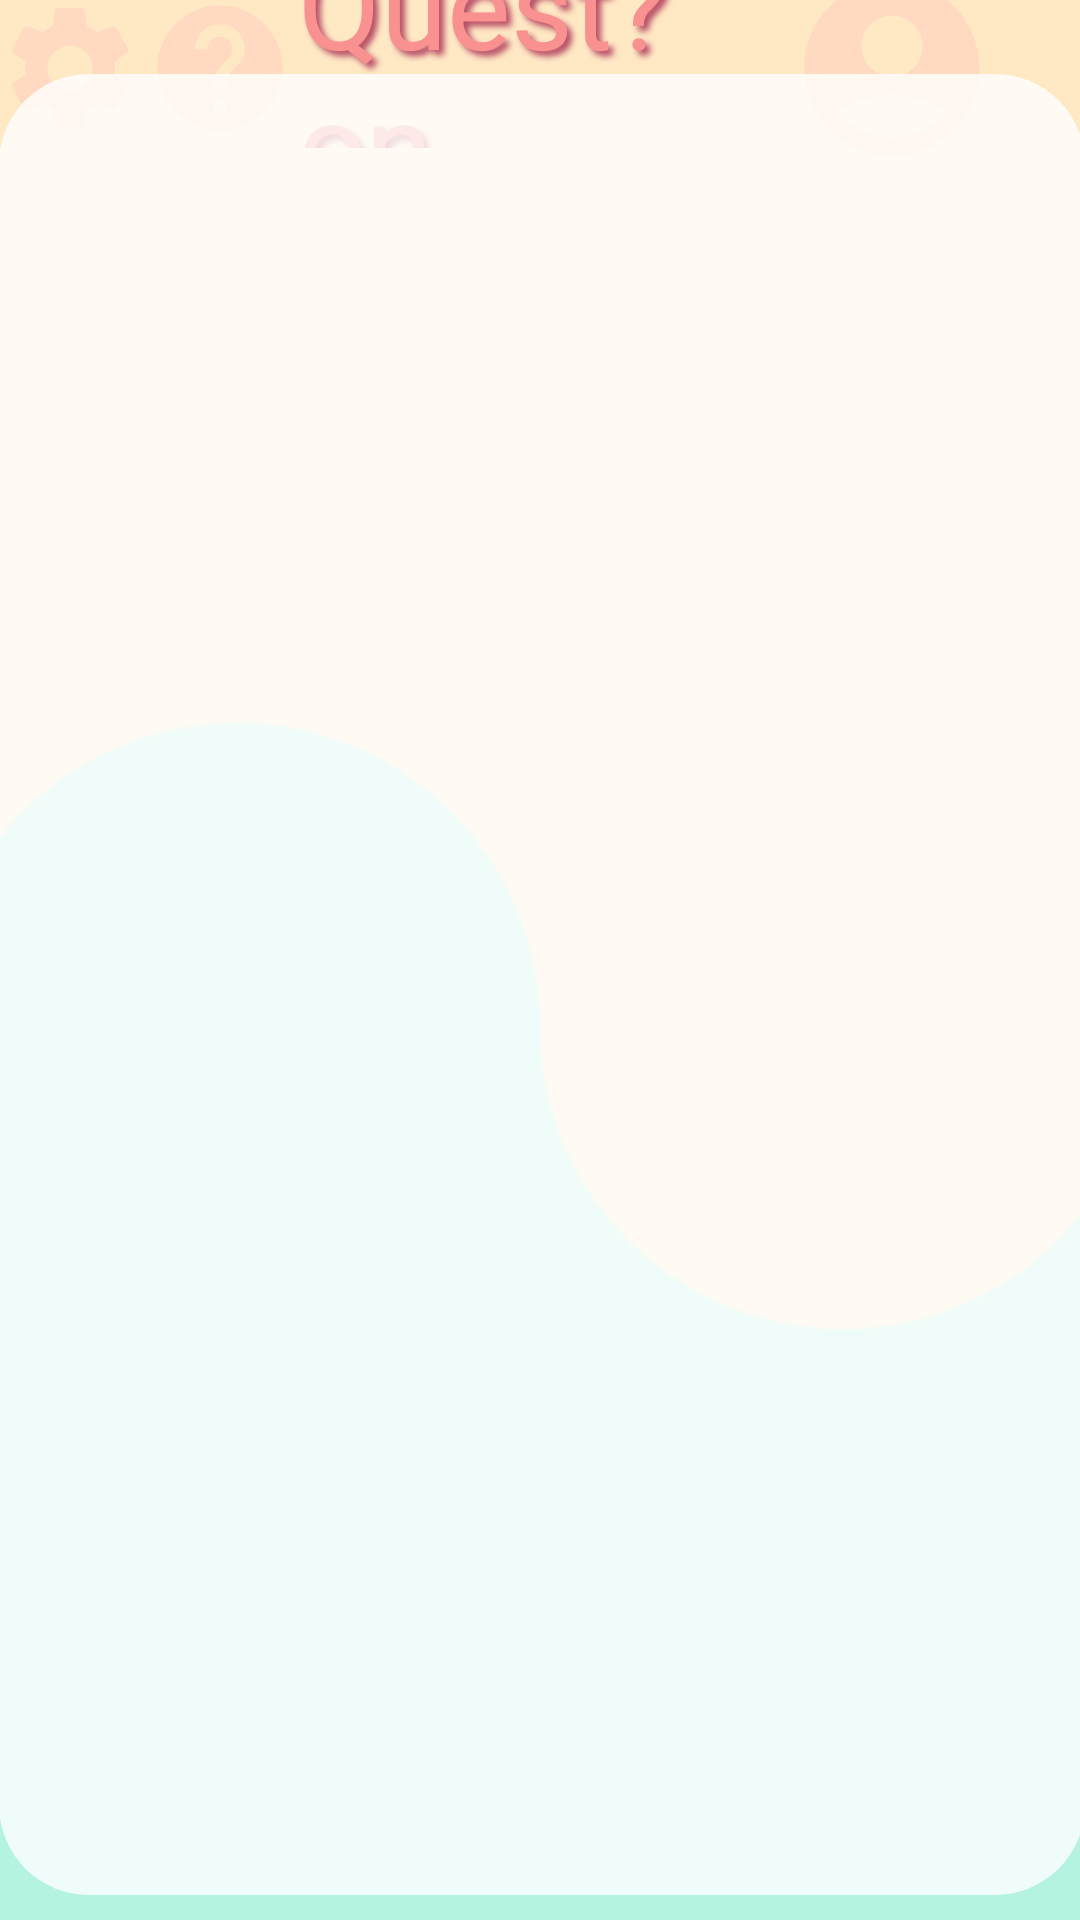

Named icons in this screenshot (1080 × 1920) and their centers, point (x, y):
settings: point (72, 71)
